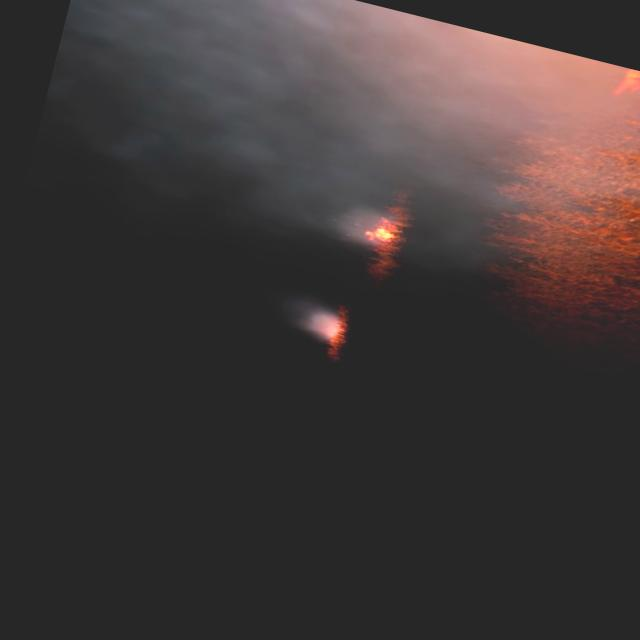fire: (360, 213, 394, 244)
smoke: (63, 0, 640, 310), (294, 304, 348, 339)
